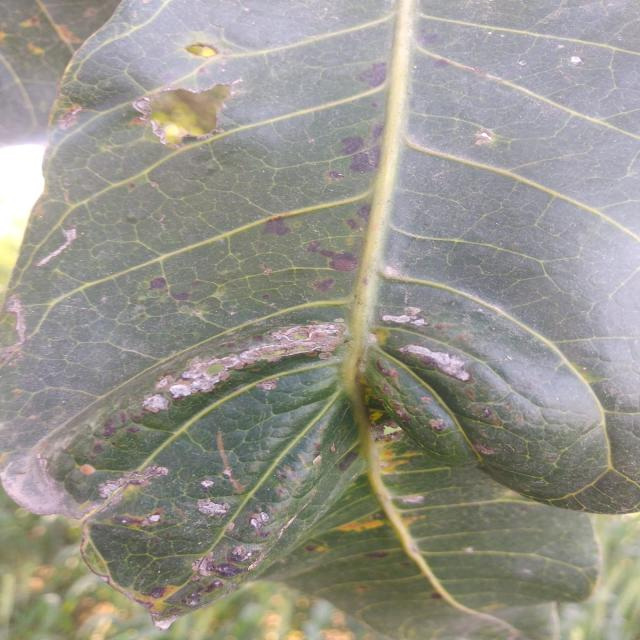Bacterial Cancer: (121, 78, 242, 149)
Powdery Mildew: (141, 311, 347, 420), (0, 453, 142, 516), (404, 343, 514, 382), (468, 119, 504, 148), (194, 499, 250, 517)
